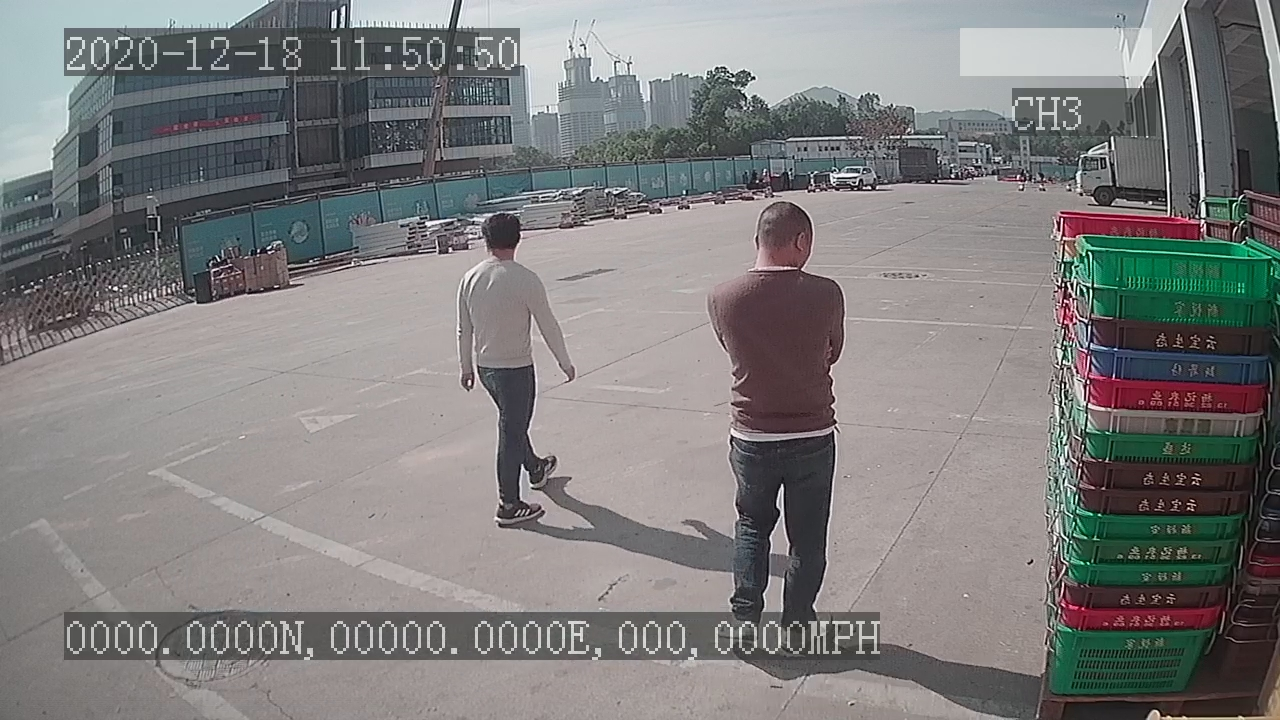person: (452, 210, 579, 533)
